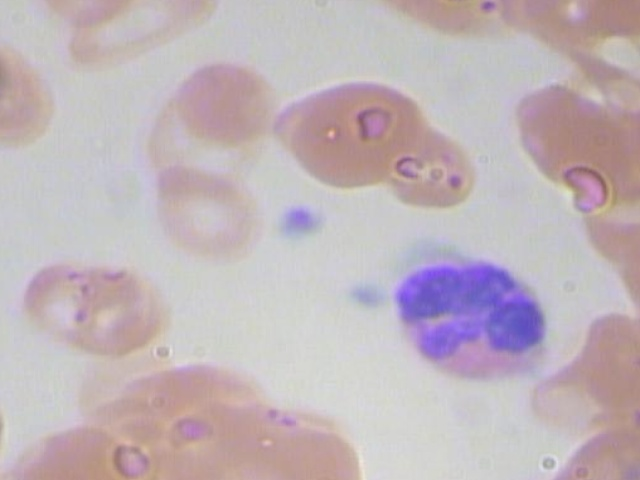Platelets: (272, 200, 329, 247), (339, 272, 396, 319)
RBC: (505, 76, 640, 217), (278, 73, 430, 190), (526, 295, 640, 435), (147, 159, 264, 268), (60, 253, 177, 362), (165, 45, 281, 154), (58, 0, 227, 74), (376, 118, 479, 210), (229, 419, 376, 480), (0, 39, 77, 153), (10, 248, 94, 345), (9, 423, 135, 480), (545, 419, 640, 480), (0, 365, 8, 480)
WBC: (394, 243, 557, 396)
